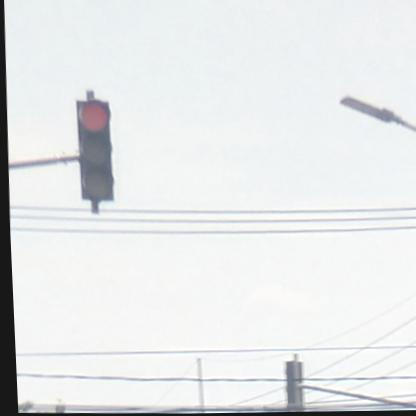red: (71, 98, 116, 202)
